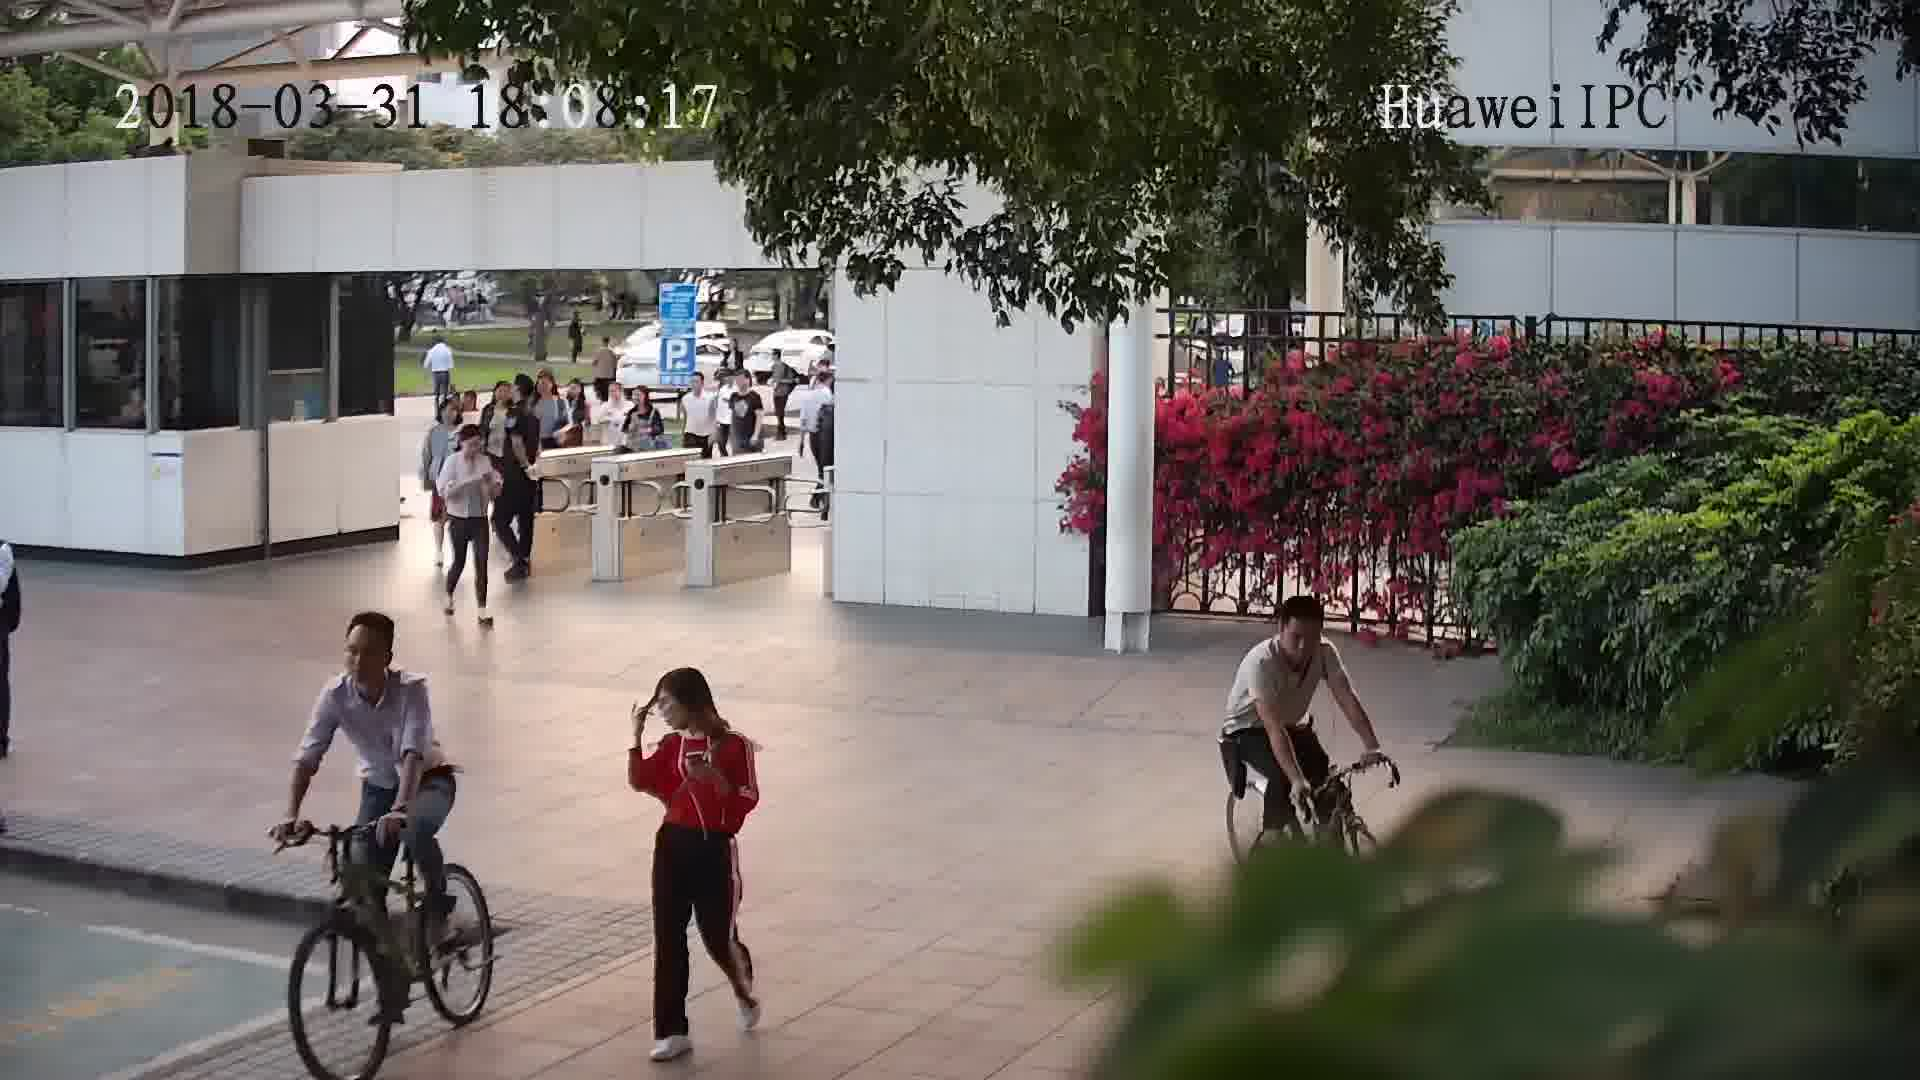face: (335, 626, 392, 683), (1279, 619, 1326, 666)
person: (312, 606, 431, 714), (643, 663, 750, 761), (1242, 591, 1332, 679), (441, 422, 496, 472), (503, 371, 545, 428), (423, 395, 466, 442), (525, 367, 568, 410), (678, 366, 718, 410), (724, 370, 767, 410), (625, 382, 662, 423), (480, 379, 514, 419), (597, 379, 633, 416), (561, 376, 592, 410), (768, 347, 798, 379), (803, 370, 835, 401), (425, 328, 457, 358)
